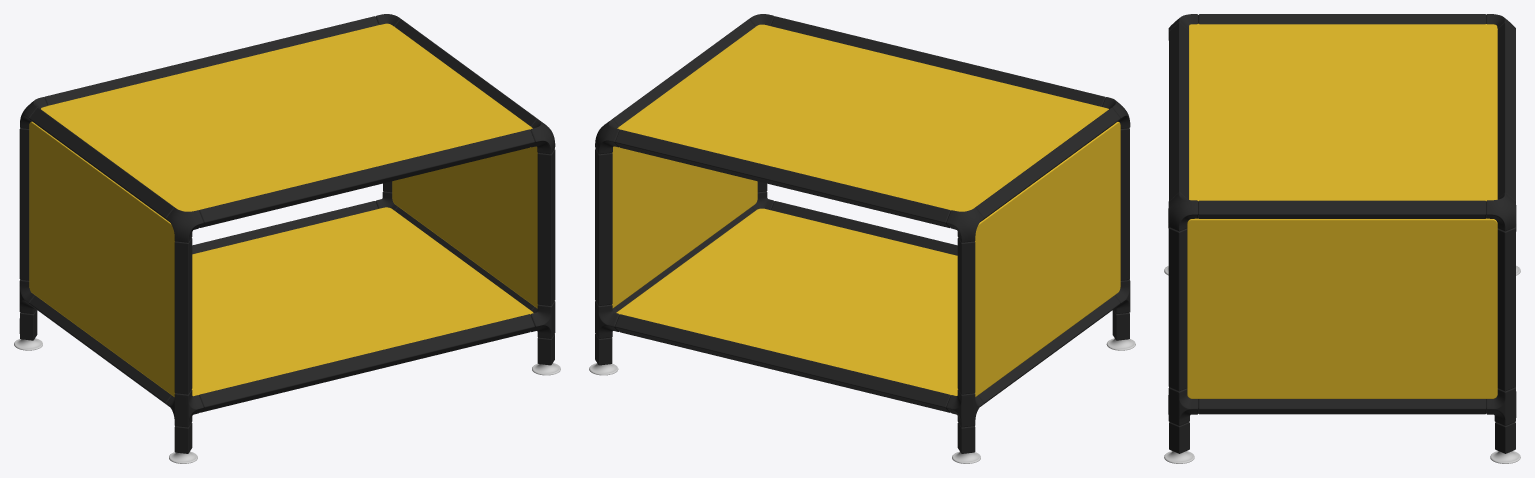
3 renders of one model, left to right at view 1: azimuth 30°, elevation 25°; view 2: azimuth 150°, elevation 25°; view 3: azimuth 270°, elevation 25°, orthographic. The views are drawn at different scales.
Parts seen in each view (by area): view 1: 523x374x229; view 2: 523x374x229; view 3: 523x374x229.
Part boxes in pixels (x1,y1,x2,y2): 523x374x229: (14,14,560,463); 523x374x229: (589,14,1135,463); 523x374x229: (1164,14,1520,463).
Bounding box in the file's own units: 0.6129 × 0.3683 × 0.4632.
